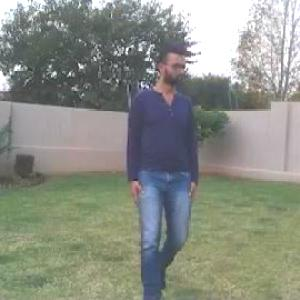follow: (119, 24, 209, 299)
